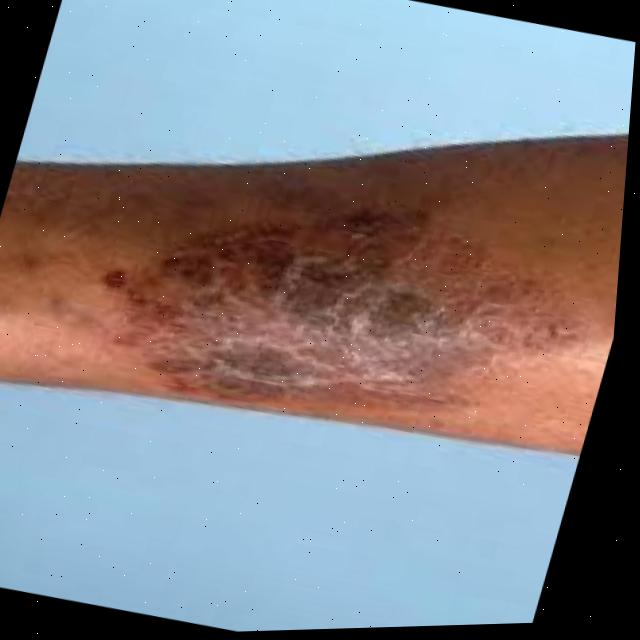Eczema: (80, 185, 566, 451)
